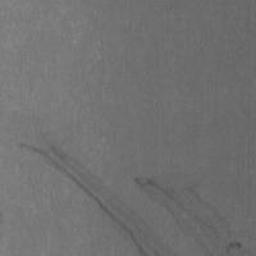Water spot: (14, 142, 244, 256)
